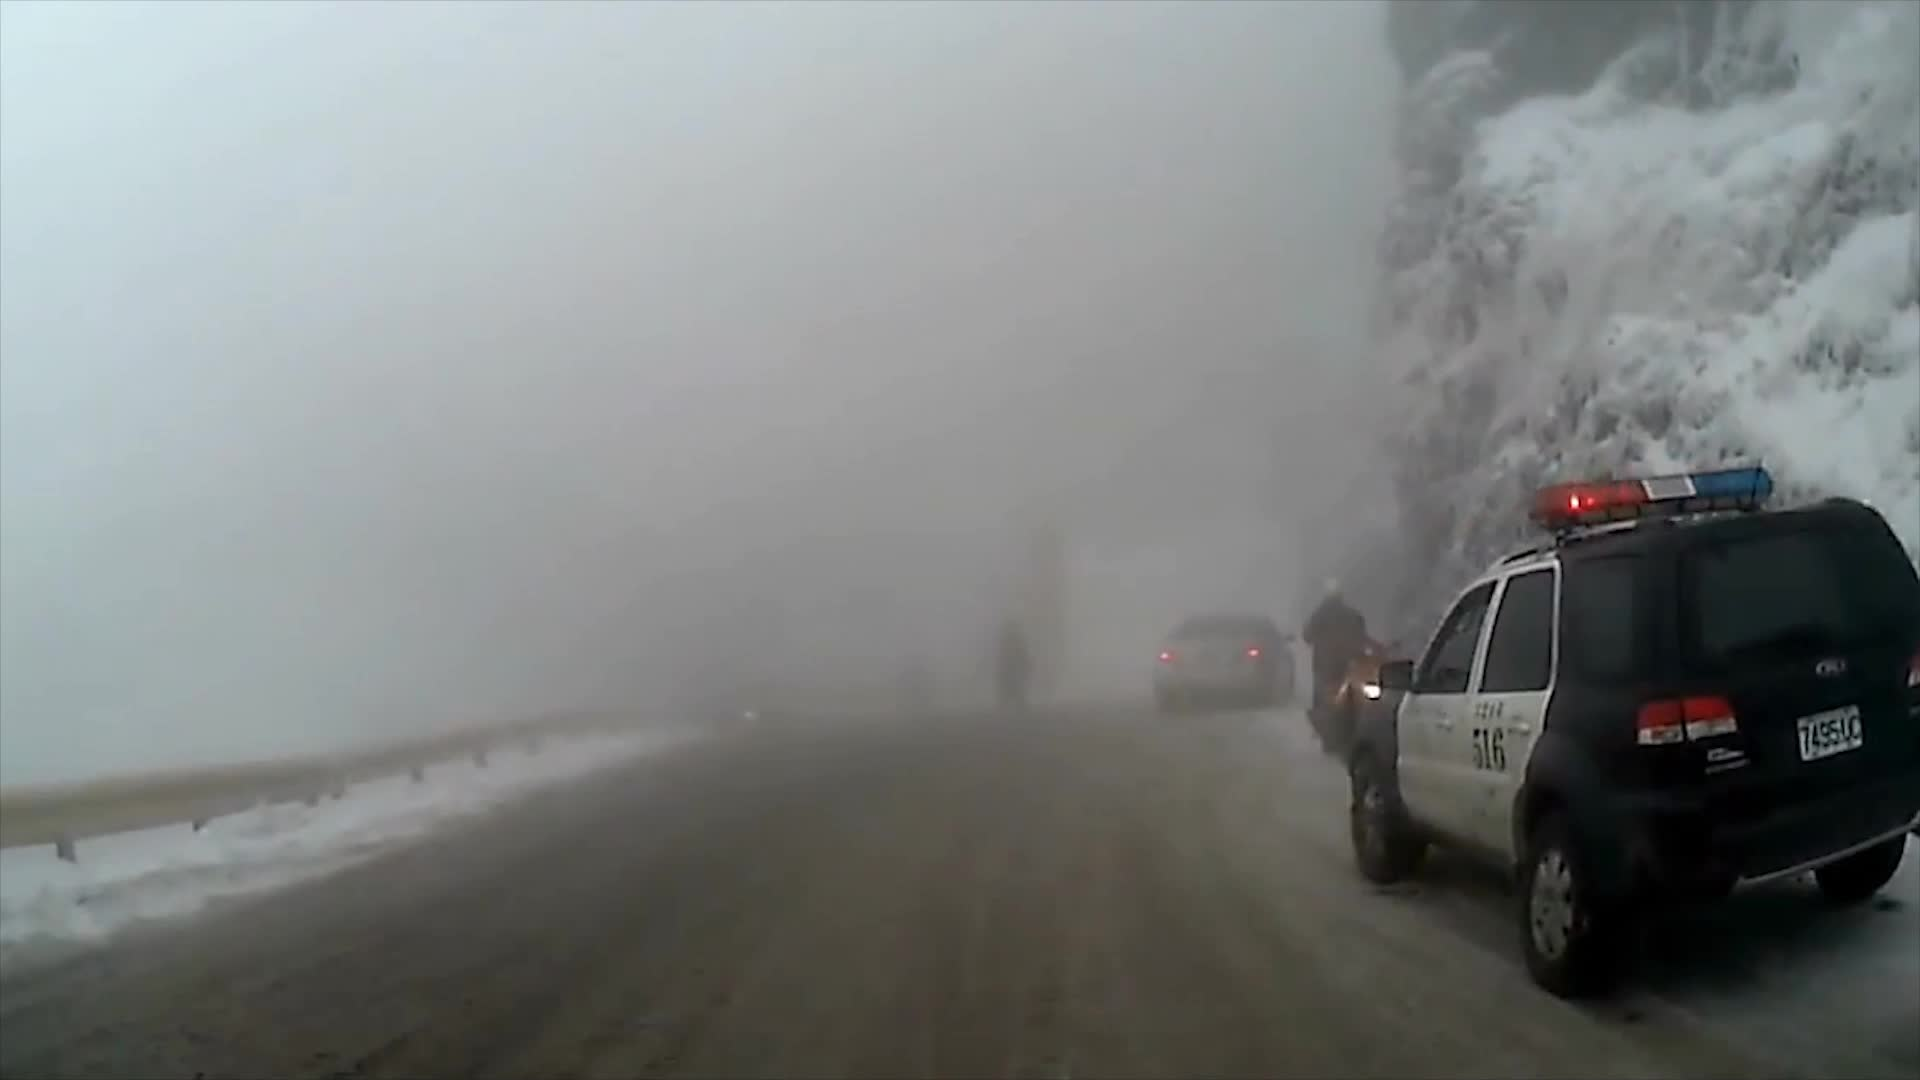pedestrian: (1302, 576, 1380, 743)
vehicle: (1345, 462, 1919, 1003), (1156, 607, 1300, 712)
